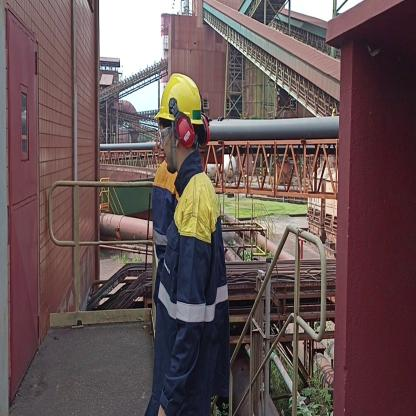C_eletrica: (157, 189, 228, 416)
Capacete: (158, 71, 207, 125)
